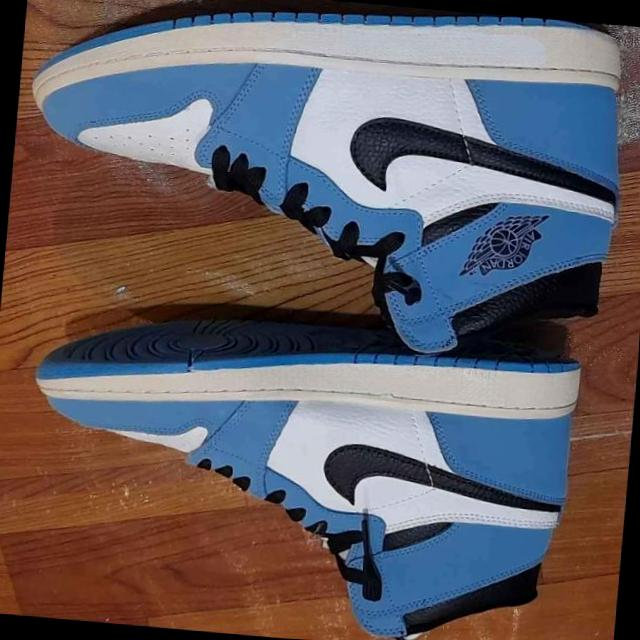nike_fake_jordan: (6, 0, 637, 370), (13, 294, 586, 640)
